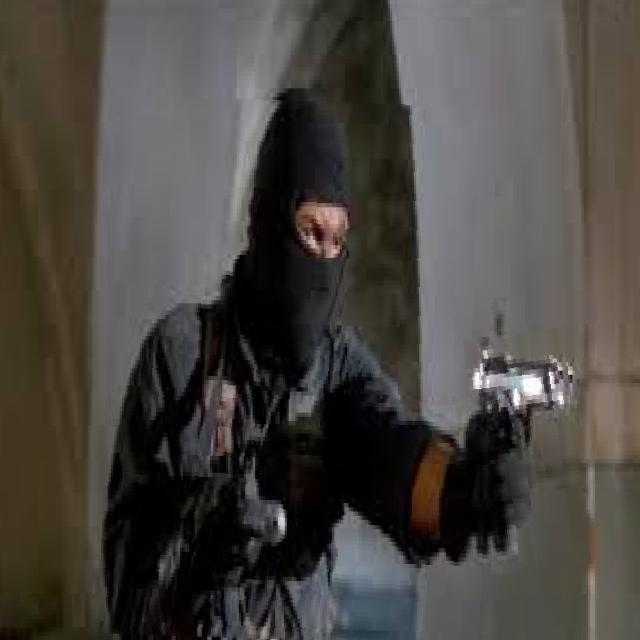Gun_Holder: (466, 319, 584, 502)
Jacket_Wearer: (116, 290, 516, 640)
Person: (102, 66, 523, 640)
